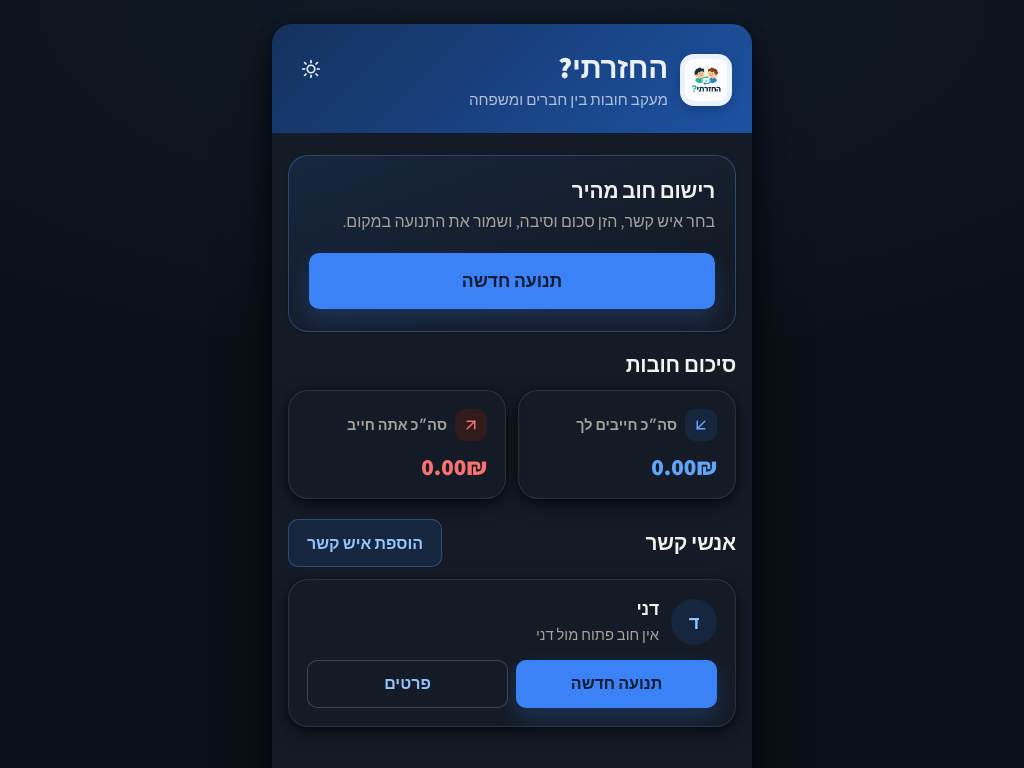
App › Edit Member › rejects empty name with Hebrew validation message
Click the button "פרטים". click: (408, 684)
box: [307,660,508,708]
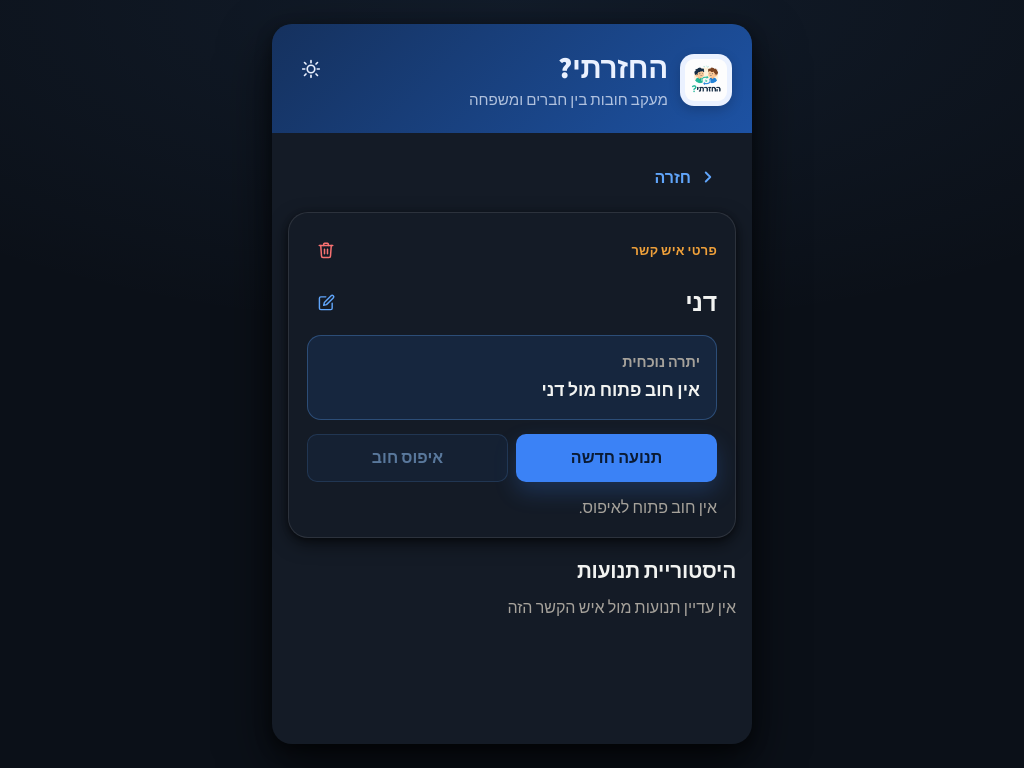
Click the button named "שינוי שם". click: (326, 302)
box: [307,283,345,321]
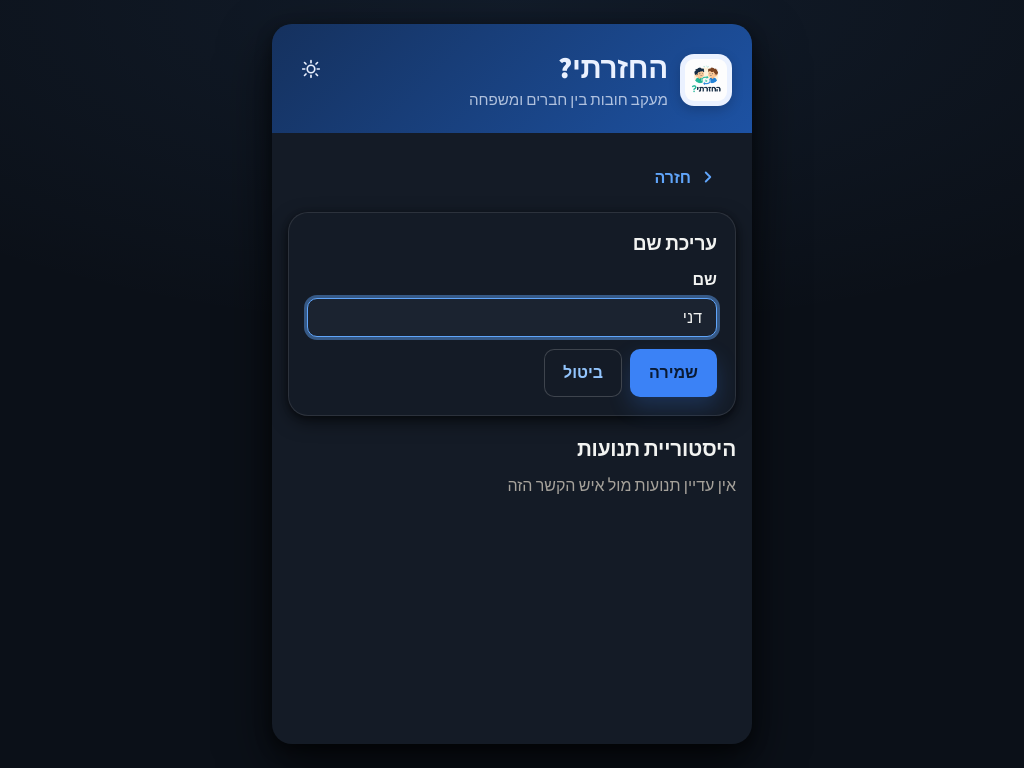
Clear the field labelled "שם". click: (512, 317)
box: [307,298,717,337]
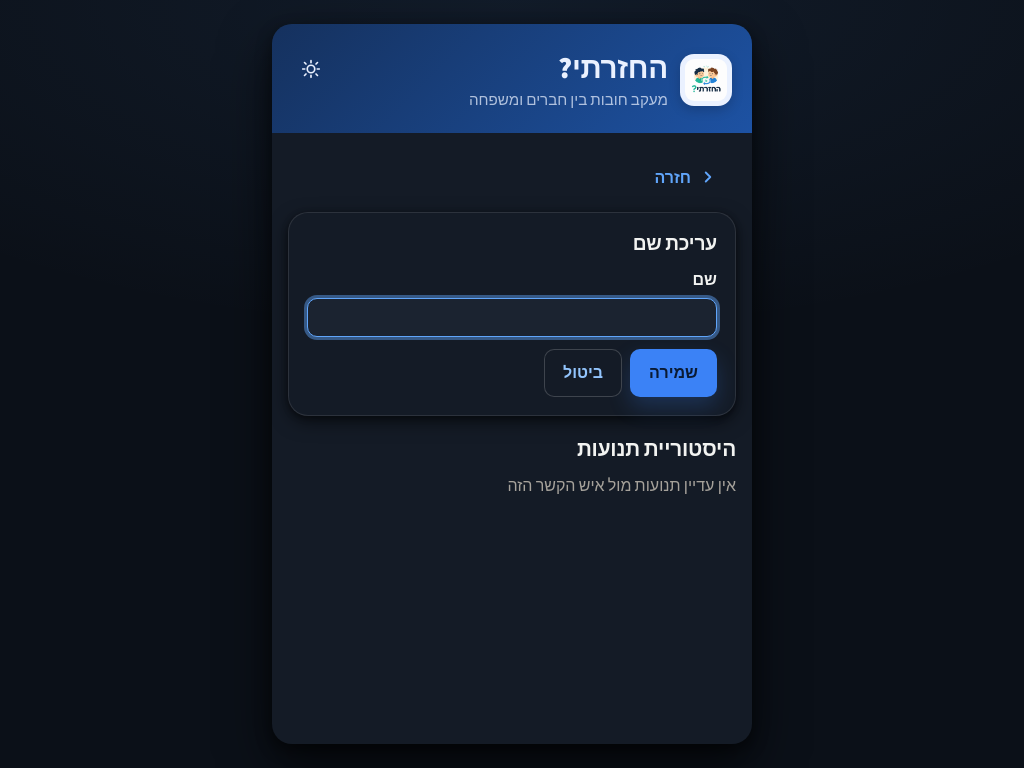
Click the button "שמירה". click: (674, 373)
box: [630,349,717,397]
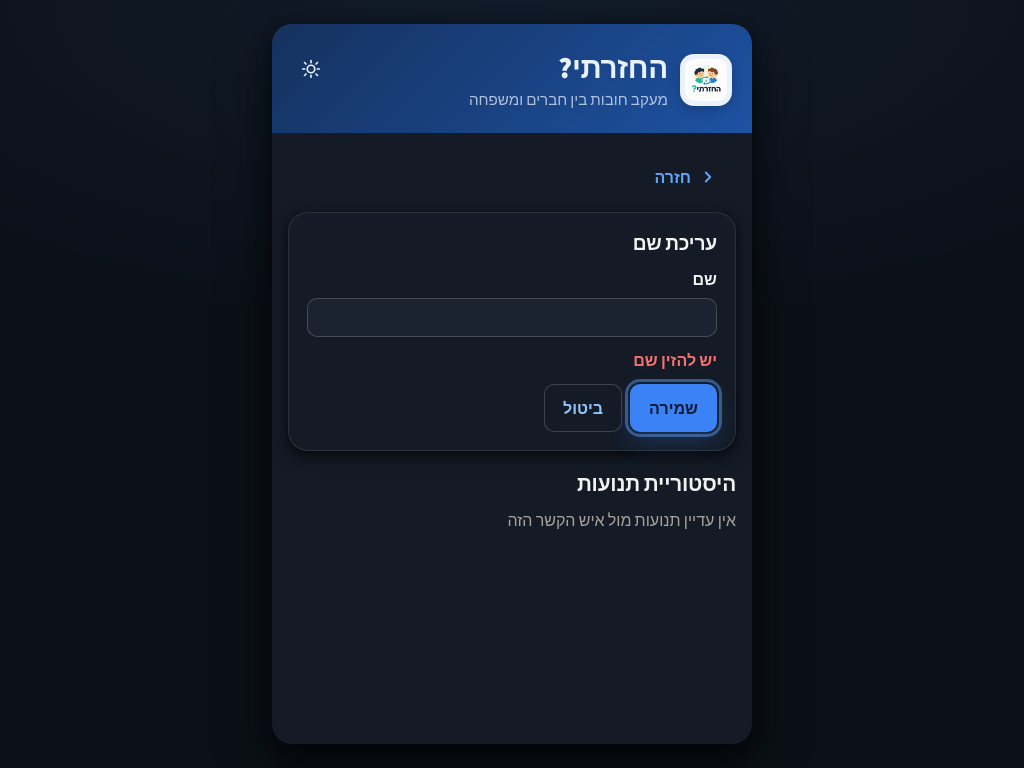
Expected: the message reads "יש להזין שם", [633,350,717,371]
